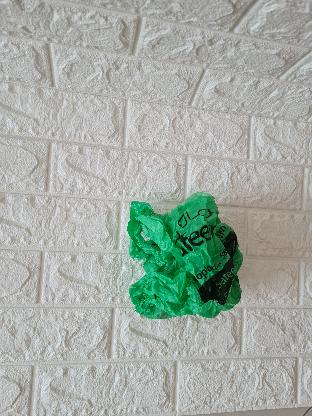Plastic Bag: (111, 186, 247, 330)
